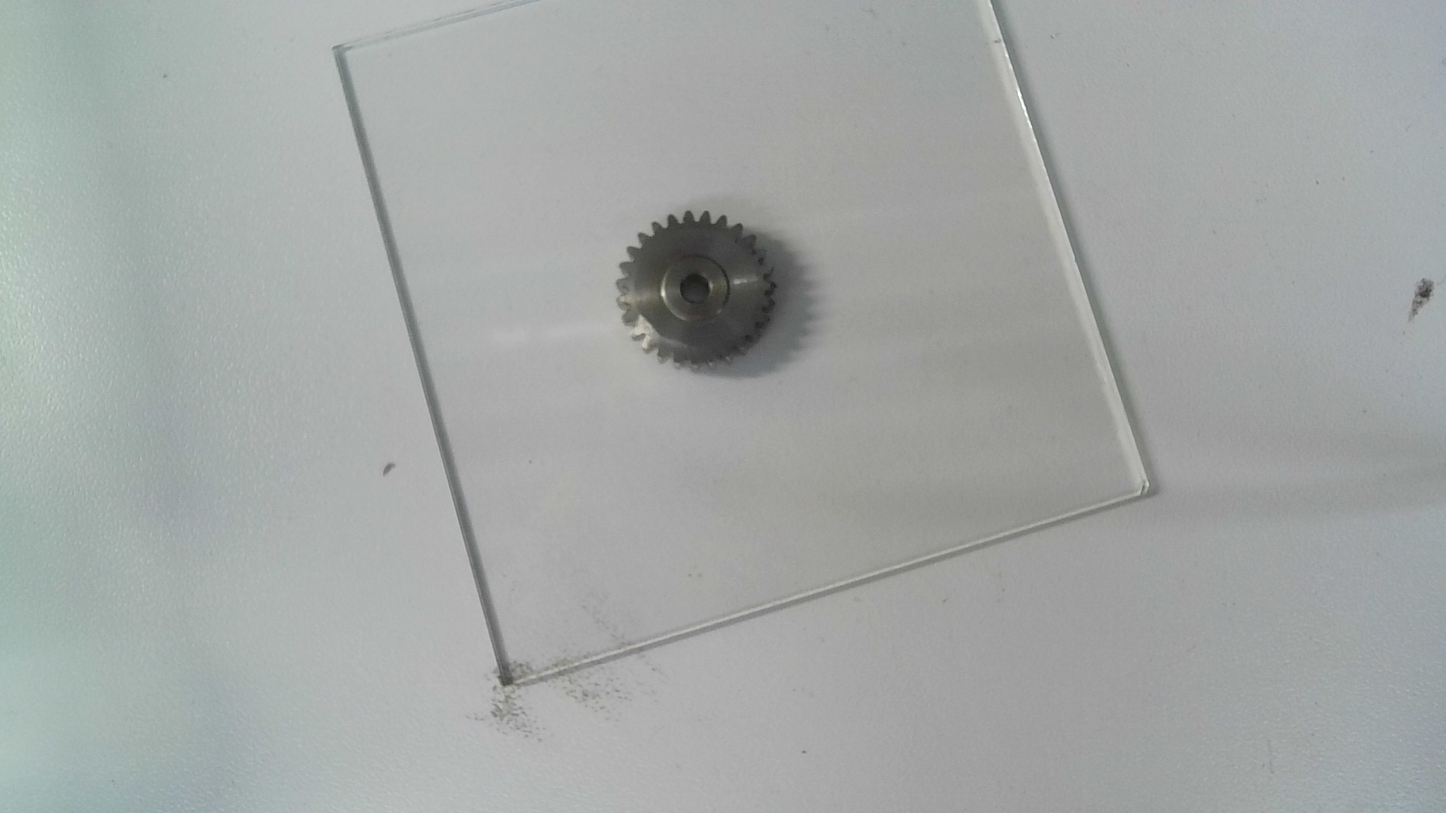gear: (611, 209, 777, 375)
